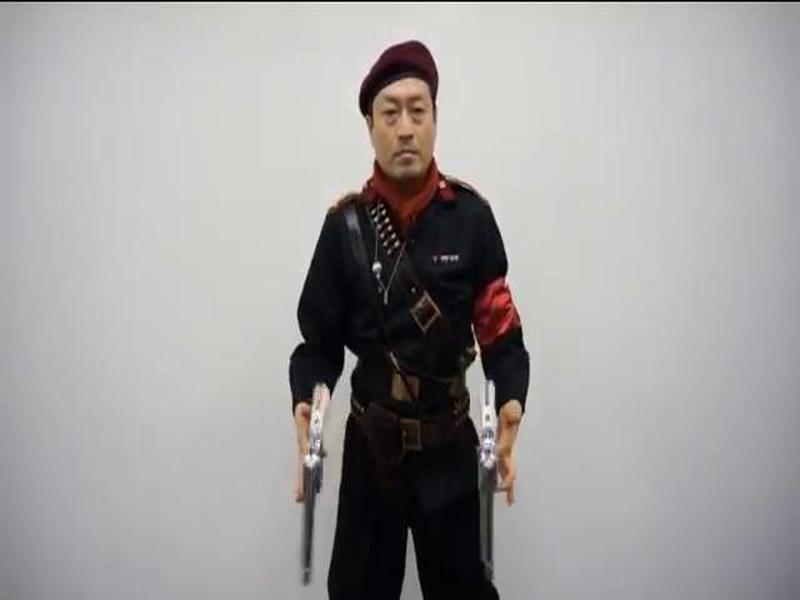Revolver: (270, 378, 354, 595), (454, 377, 533, 586)
